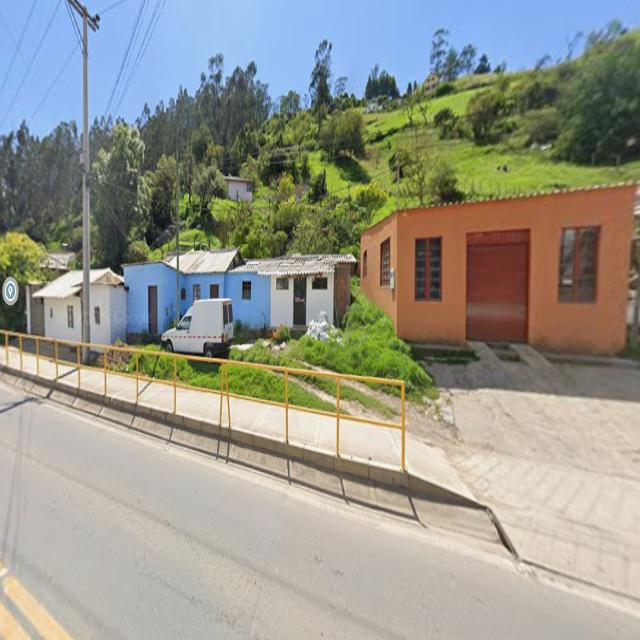Casa: (360, 184, 637, 355), (124, 248, 356, 335), (28, 270, 83, 339), (89, 267, 131, 344), (223, 176, 253, 200)
